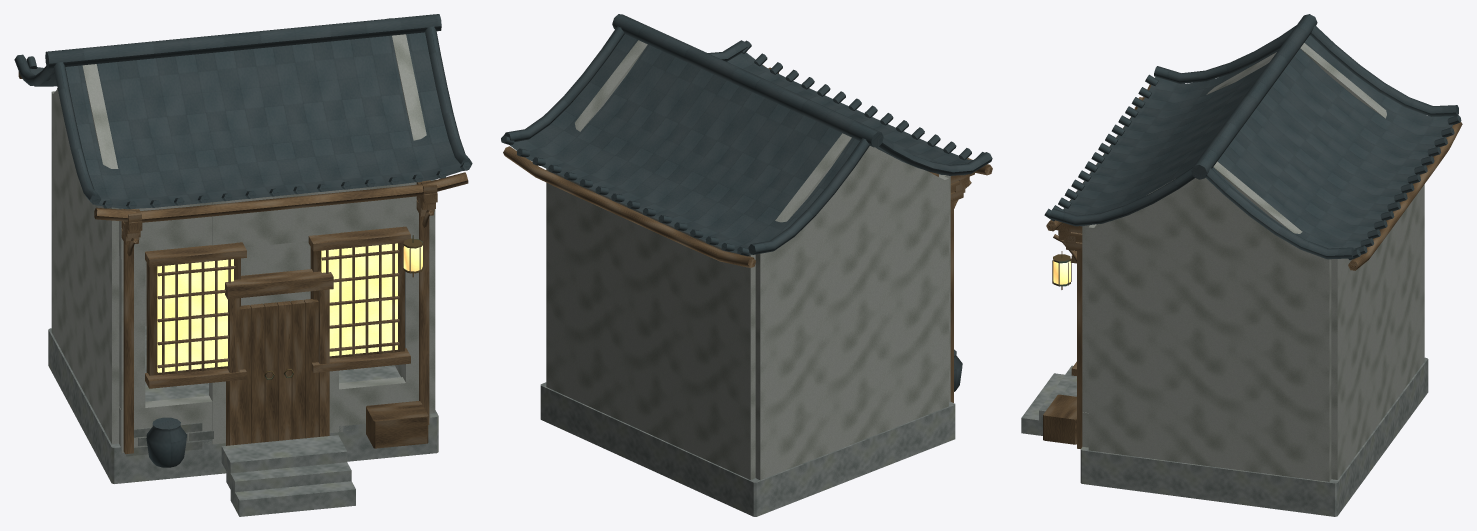
File: house_01_lod0.glb
The picture shows the model from 3 angles, left to right: view 1: azimuth 30°, elevation 25°; view 2: azimuth 150°, elevation 25°; view 3: azimuth 270°, elevation 25°; orthographic projection. The views are drawn at different scales.
Parts seen in each view (by area): view 1: house_01_L0__tile, house_01_L0__timber, house_01_L0__plaster, house_01_L0__stone, house_01_L0__paper; view 2: house_01_L0__plaster, house_01_L0__tile, house_01_L0__stone, house_01_L0__timber; view 3: house_01_L0__plaster, house_01_L0__tile, house_01_L0__stone, house_01_L0__timber.
Part boxes in pixels (left/top/right/bottom): house_01_L0__tile: left=14, top=14, right=472, bottom=467; house_01_L0__timber: left=18, top=71, right=468, bottom=454; house_01_L0__plaster: left=51, top=34, right=435, bottom=453; house_01_L0__stone: left=48, top=326, right=438, bottom=516; house_01_L0__paper: left=157, top=243, right=422, bottom=372; house_01_L0__plaster: left=546, top=40, right=950, bottom=480; house_01_L0__tile: left=501, top=14, right=992, bottom=391; house_01_L0__stone: left=540, top=382, right=955, bottom=516; house_01_L0__timber: left=503, top=65, right=992, bottom=402; house_01_L0__plaster: left=1082, top=43, right=1424, bottom=481; house_01_L0__tile: left=1044, top=14, right=1461, bottom=260; house_01_L0__stone: left=1021, top=357, right=1428, bottom=516; house_01_L0__timber: left=1043, top=84, right=1462, bottom=448.
Bounding box in the file's own units: 5.25 × 4.59 × 5.25.
6 materials, 6 textured.
